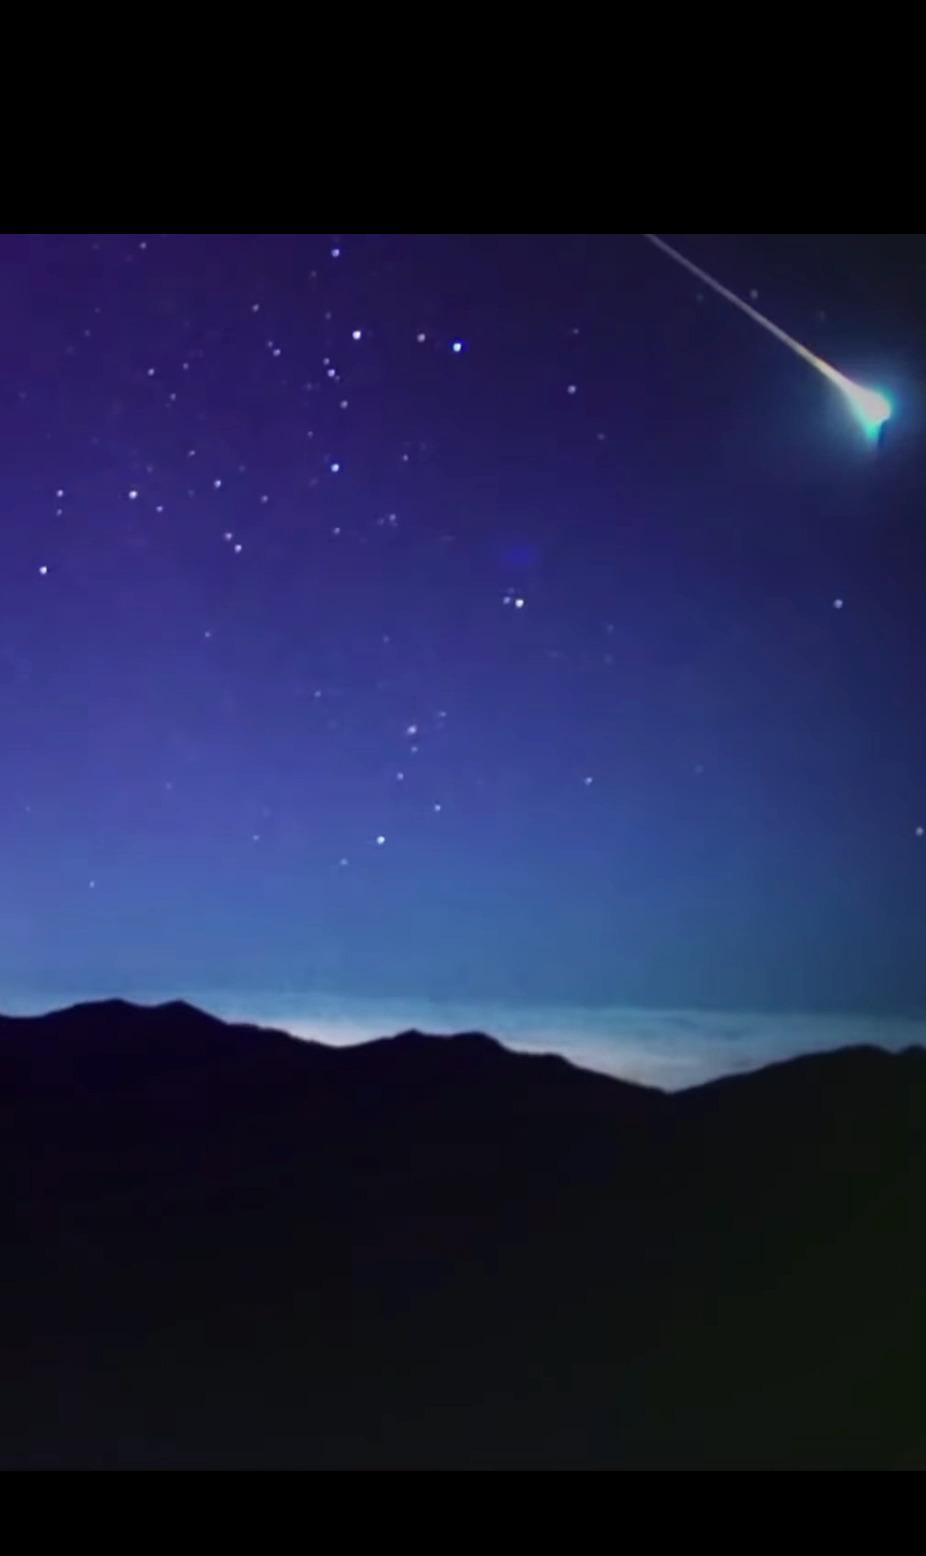meteorite: (517, 233, 922, 419)
